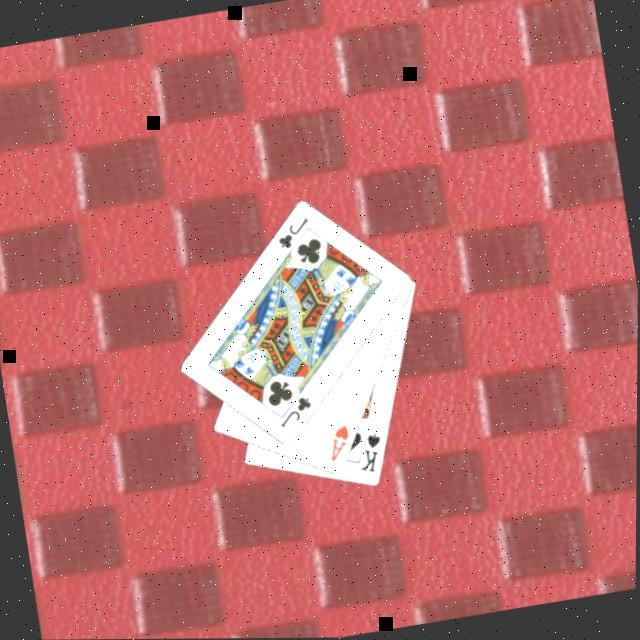AH: (324, 419, 358, 463)
JC: (274, 391, 319, 430), (274, 212, 317, 252)
KS: (354, 428, 391, 476)
